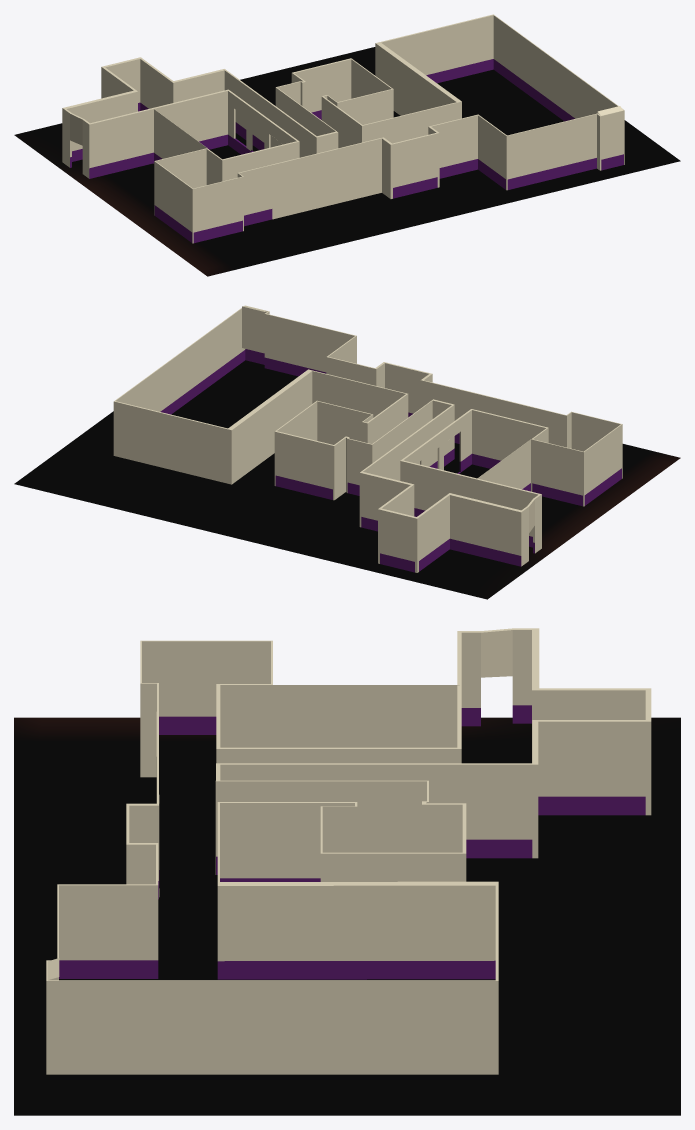
The model's file is lvlmap2 4.fbx.
3 renders of one model, top to bottom at view 1: azimuth 30°, elevation 25°; view 2: azimuth 150°, elevation 25°; view 3: azimuth 270°, elevation 25°, orthographic. The views are drawn at different scales.
Parts seen in each view (by area): view 1: Cube, Plane; view 2: Cube, Plane; view 3: Cube, Plane.
Boxes of the visible parts, left/top/right/bottom form: Cube: left=62, top=14, right=624, bottom=243; Plane: left=14, top=47, right=680, bottom=276; Cube: left=113, top=305, right=622, bottom=572; Plane: left=14, top=360, right=680, bottom=599; Cube: left=46, top=628, right=651, bottom=1074; Plane: left=14, top=717, right=680, bottom=1115.
Size of the model in its own units: 2134 by 247 by 1511.
